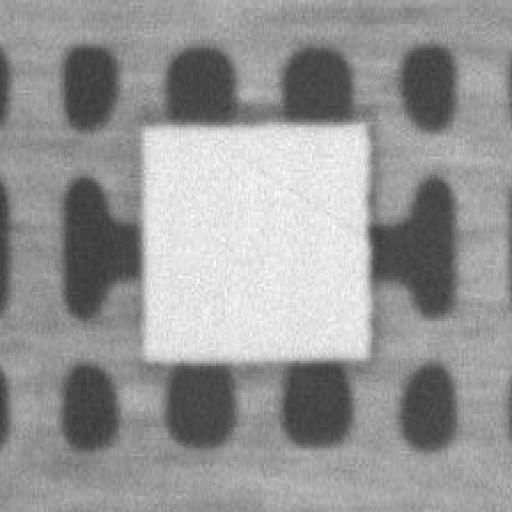DIE_CRACK: (352, 101, 512, 154)
